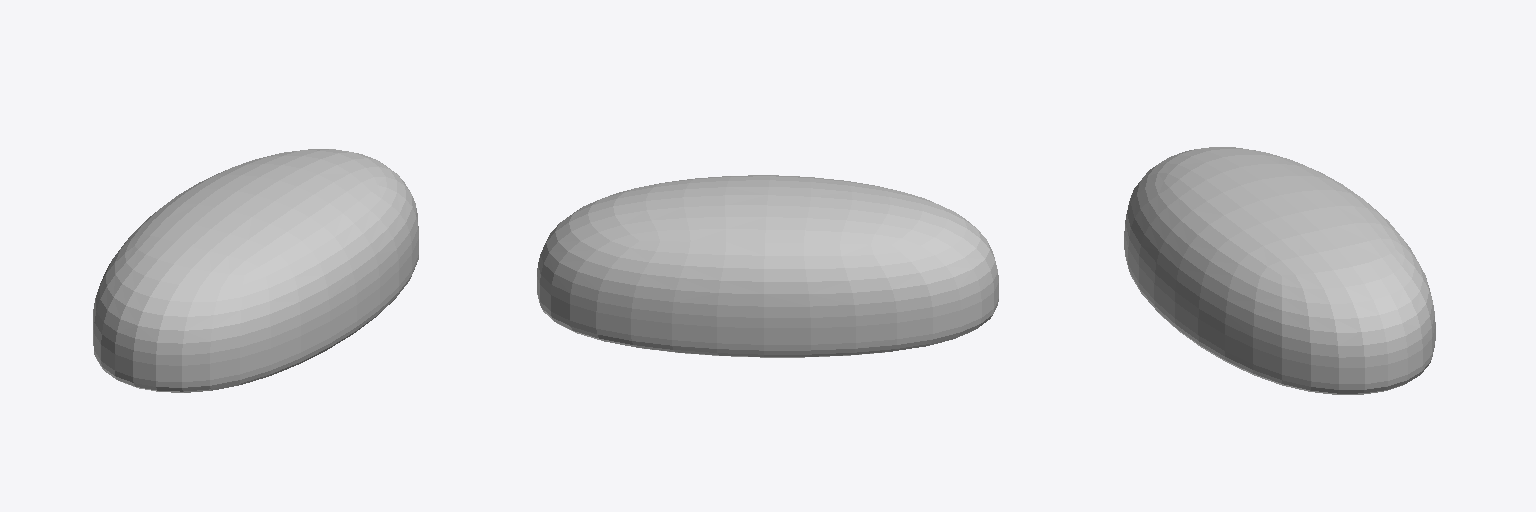
Rendered from right_feet.obj.
3 renders of one model, left to right at view 1: azimuth 30°, elevation 25°; view 2: azimuth 150°, elevation 25°; view 3: azimuth 270°, elevation 25°, orthographic.
Visible parts, largest first — view 1: Cube.001_Cube.006; view 2: Cube.001_Cube.006; view 3: Cube.001_Cube.006.
Boxes of the visible parts, <box> form: Cube.001_Cube.006: <box>93,149,418,392</box>; Cube.001_Cube.006: <box>537,175,998,357</box>; Cube.001_Cube.006: <box>1124,147,1435,394</box>.
Bounding box in the file's own units: 1.42 × 0.4464 × 1.04.